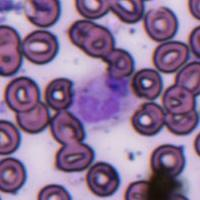N: (75, 72, 131, 127)
